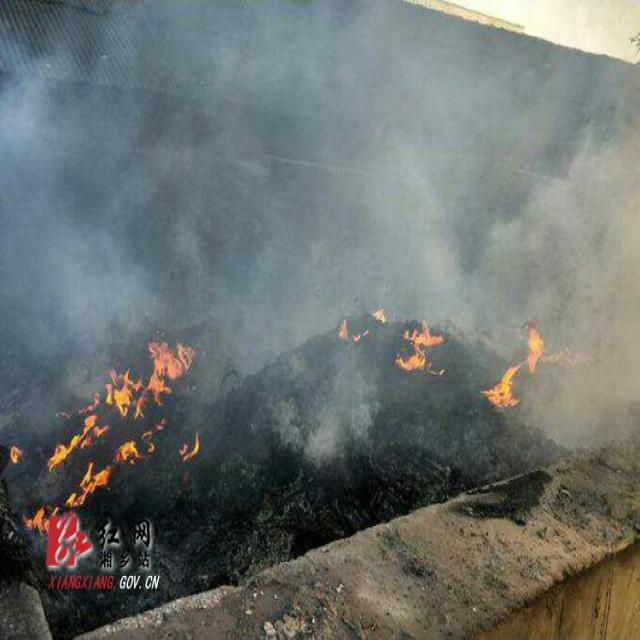fire: (2, 347, 200, 521), (489, 320, 543, 411), (331, 288, 389, 346), (394, 318, 441, 373)
